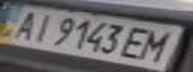1: (66, 16, 90, 52)
3: (100, 20, 130, 56)
4: (84, 19, 109, 54)
9: (45, 15, 78, 48)
A: (0, 8, 45, 41)
E: (118, 25, 157, 61)
I: (24, 11, 60, 44)
M: (133, 27, 187, 63)
